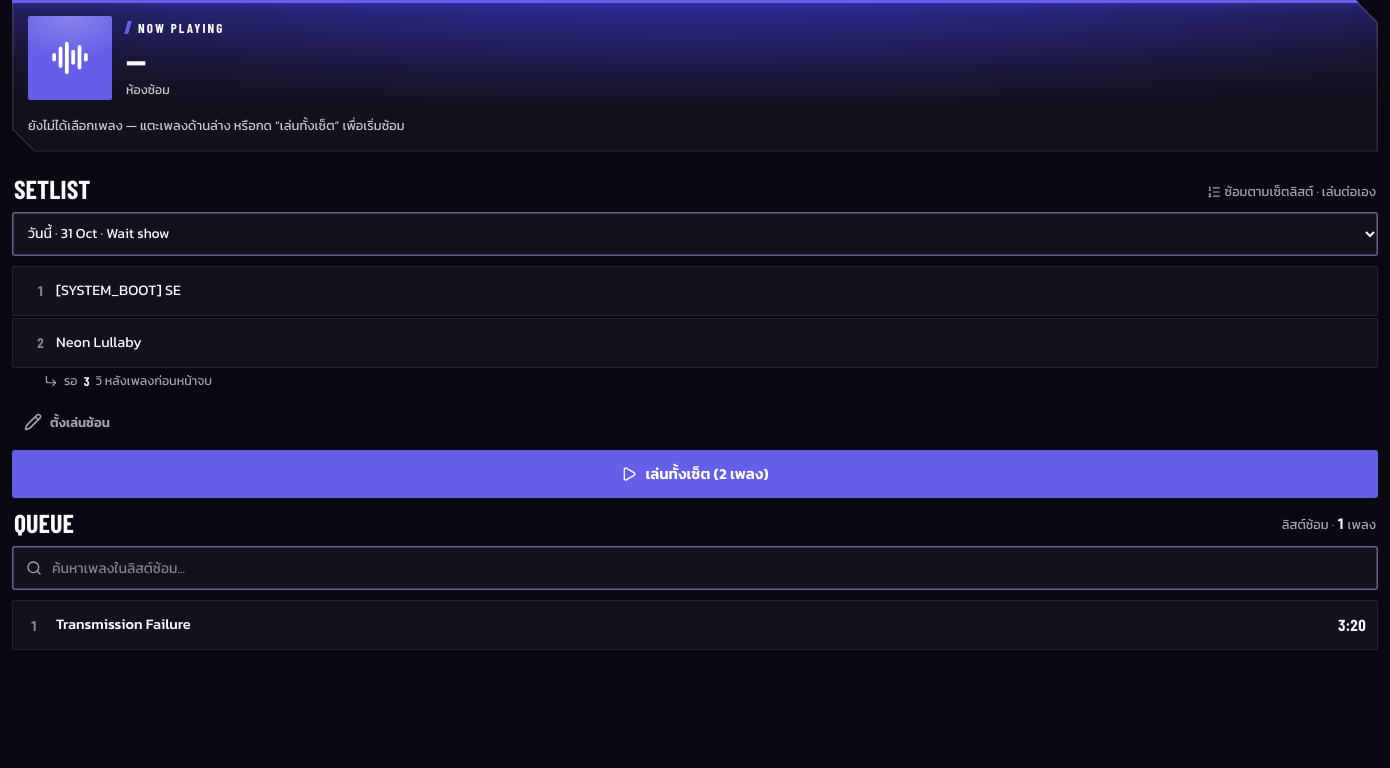
Test: PracticePlayer — a positive เข้าหลังเพลงก่อนหน้า waits › a show row's wait is shown signed, and + goes on past 0 into a wait
The image size is (1390, 768).
Check: the button "เล่นทั้งเซ็ต (2 เพลง)" is shown, box [12,450,1378,498]
What coordinates should you click on to do the following:
click the button "ตั้งเล่นซ้อน"
I would click on:
 (67, 422)
Its box is [12,404,122,440].
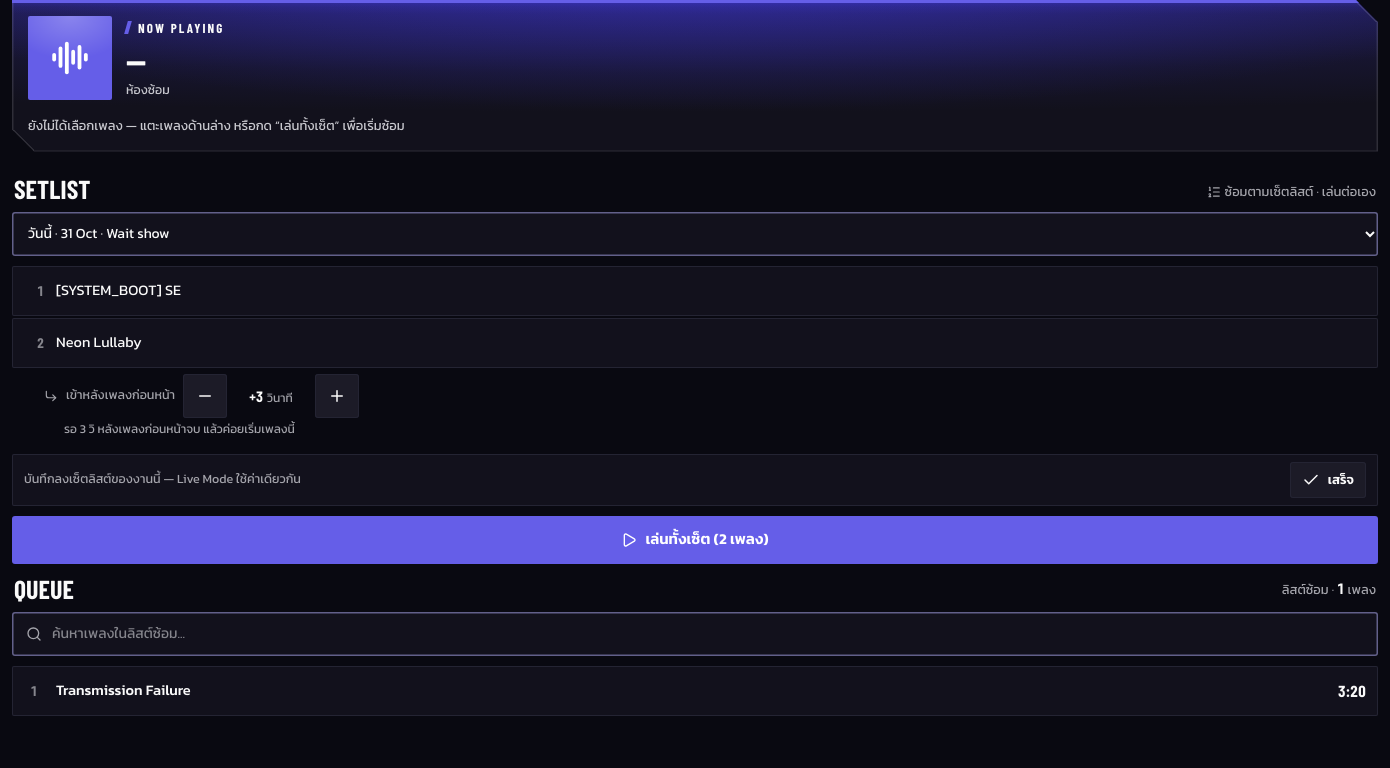
Check: the element named "เข้าหลังเพลงก่อนหน้า · Neon Lullaby 3 วินาที" reads "+3 วินาที", box [249,386,293,406]
What coordinates should you click on to do the following:
click the button named "เข้าช้าลง · Neon Lullaby"
I would click on:
 (337, 396)
Its box is [315,374,359,418].
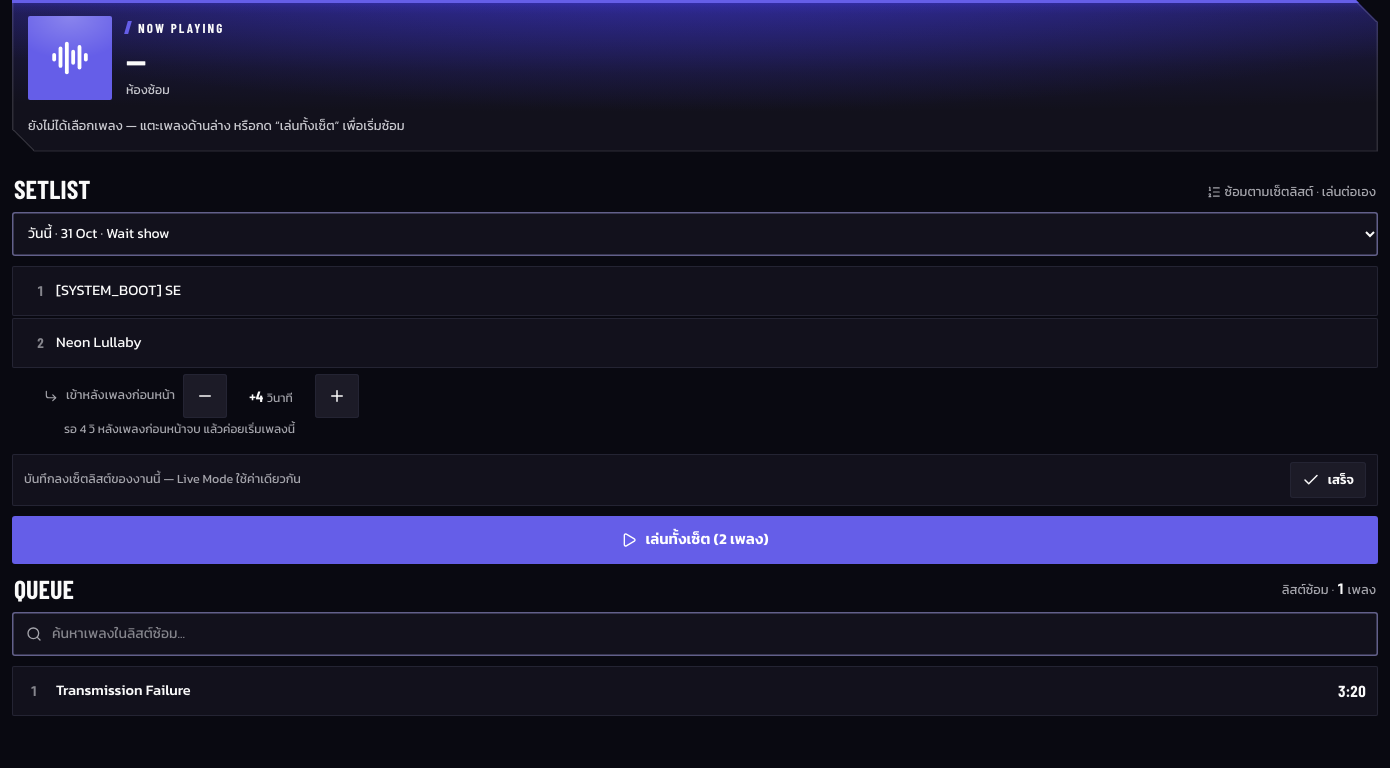
Check: the text "รอ 4 วิ หลังเพลงก่อนหน้าจบ แล้วค่อยเริ่มเพลงนี้" is shown, box [64,420,295,438]
